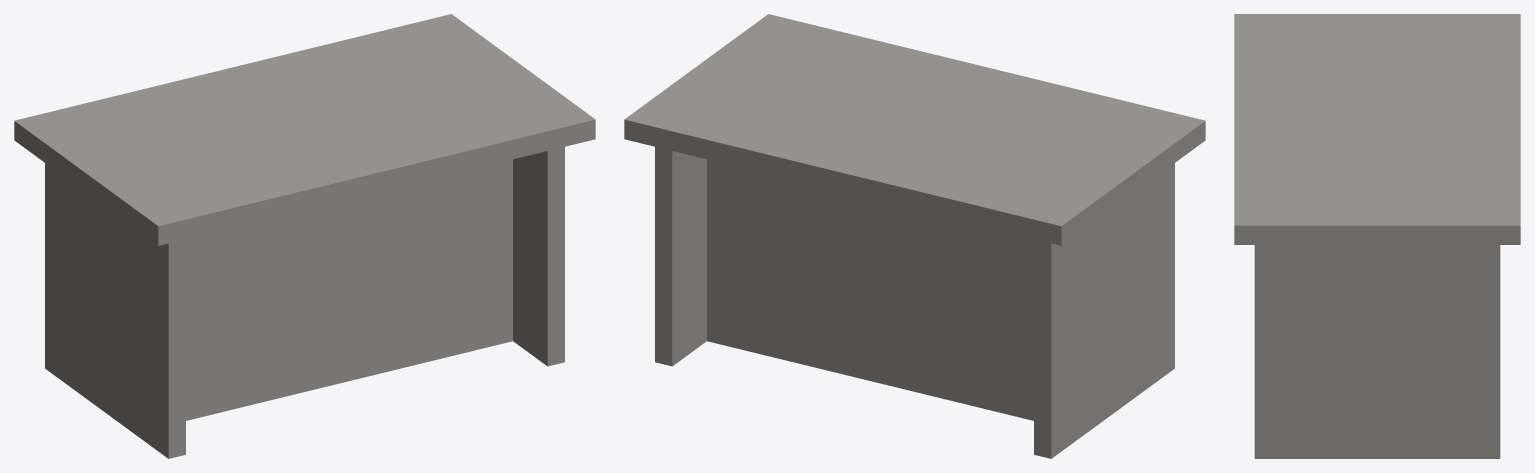
The model's file is SM_Props_Interior_House_Generic_Table_Dining_02.fbx.
The picture shows the model from 3 angles, left to right: view 1: azimuth 30°, elevation 25°; view 2: azimuth 150°, elevation 25°; view 3: azimuth 270°, elevation 25°; orthographic projection.
Visible parts, largest first — view 1: SM_Props_Interior_House_Generic_Table_Dining_02; view 2: SM_Props_Interior_House_Generic_Table_Dining_02; view 3: SM_Props_Interior_House_Generic_Table_Dining_02.
Boxes of the visible parts, <box> form: SM_Props_Interior_House_Generic_Table_Dining_02: <box>14,14,595,458</box>; SM_Props_Interior_House_Generic_Table_Dining_02: <box>624,14,1205,458</box>; SM_Props_Interior_House_Generic_Table_Dining_02: <box>1234,14,1520,458</box>.
Bounding box in the file's own units: 140 × 75 × 80.
